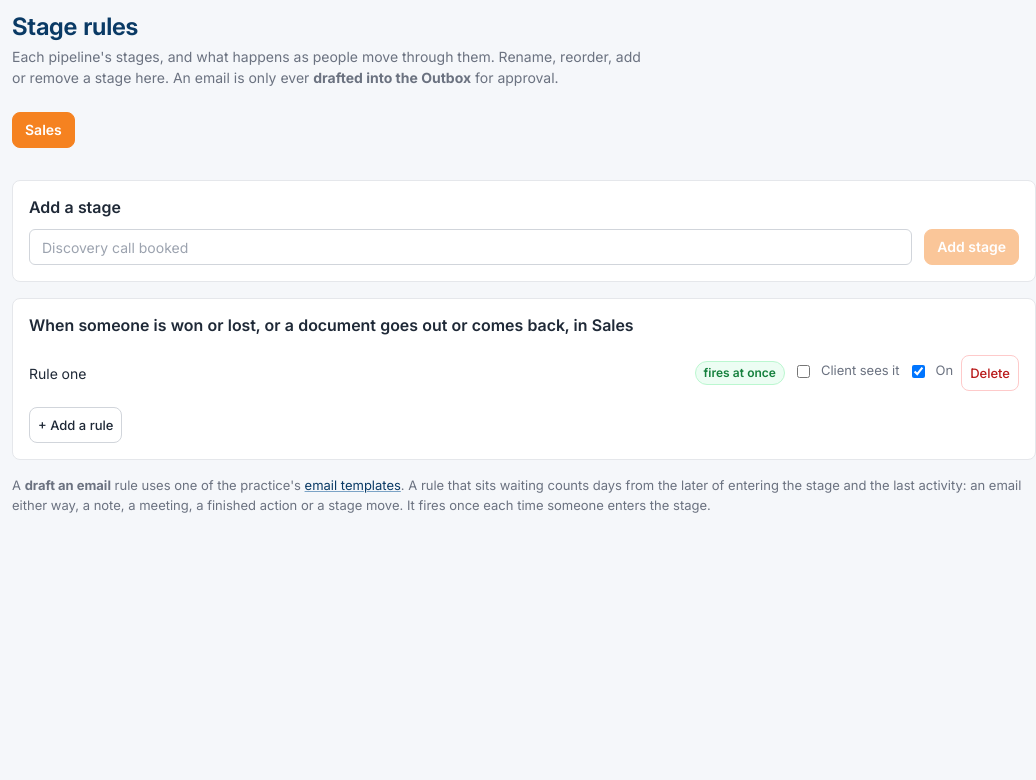
stage rules, in the practice's words › names the follow-up as the practice's task
Expected: the checkbox named "Client can see the action: Rule one" is shown, [797,364,810,378]
Click the button with aria-label "Add a rule to Sales": (76,425) [29,407,122,443]
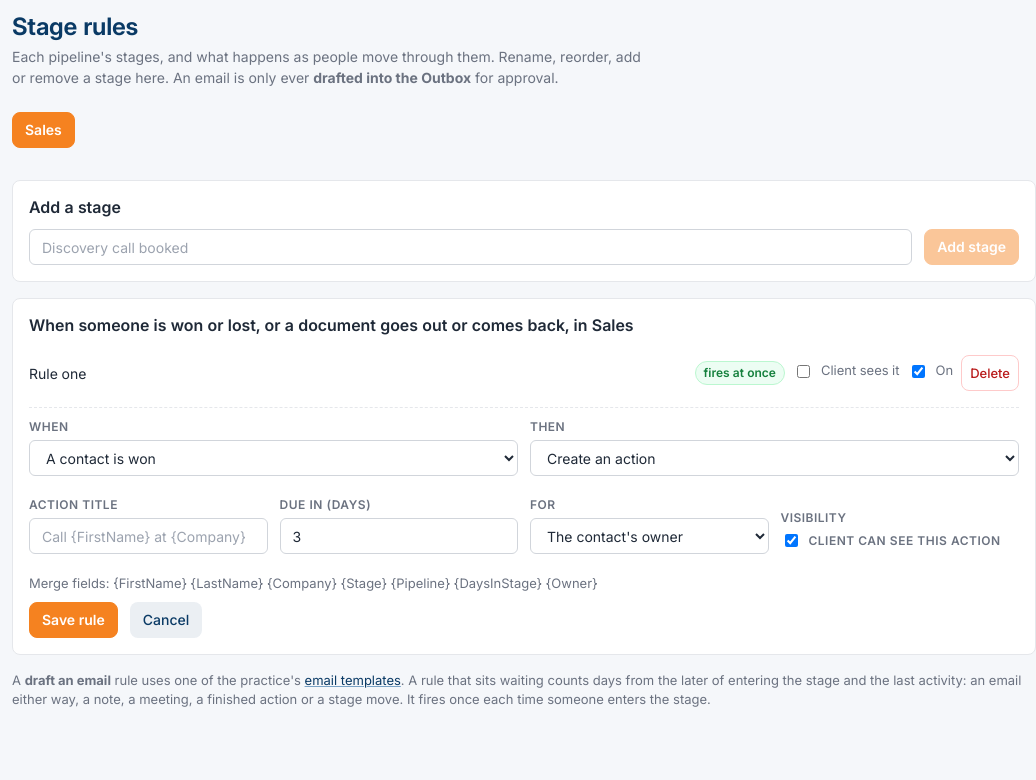
Expected: the text "Action title" is shown, [29,497,118,512]
Expected: the text "Client can see this action" is shown, [780,531,1019,550]
